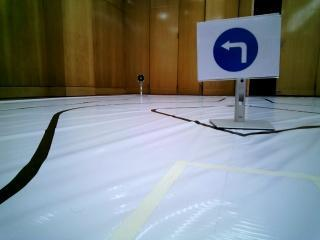left: (198, 20, 281, 76)
